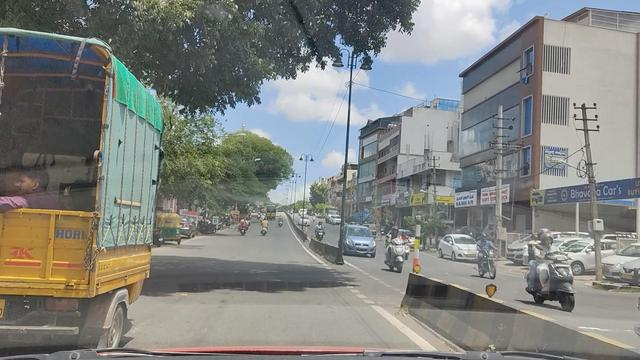HMV: (0, 43, 114, 360)
